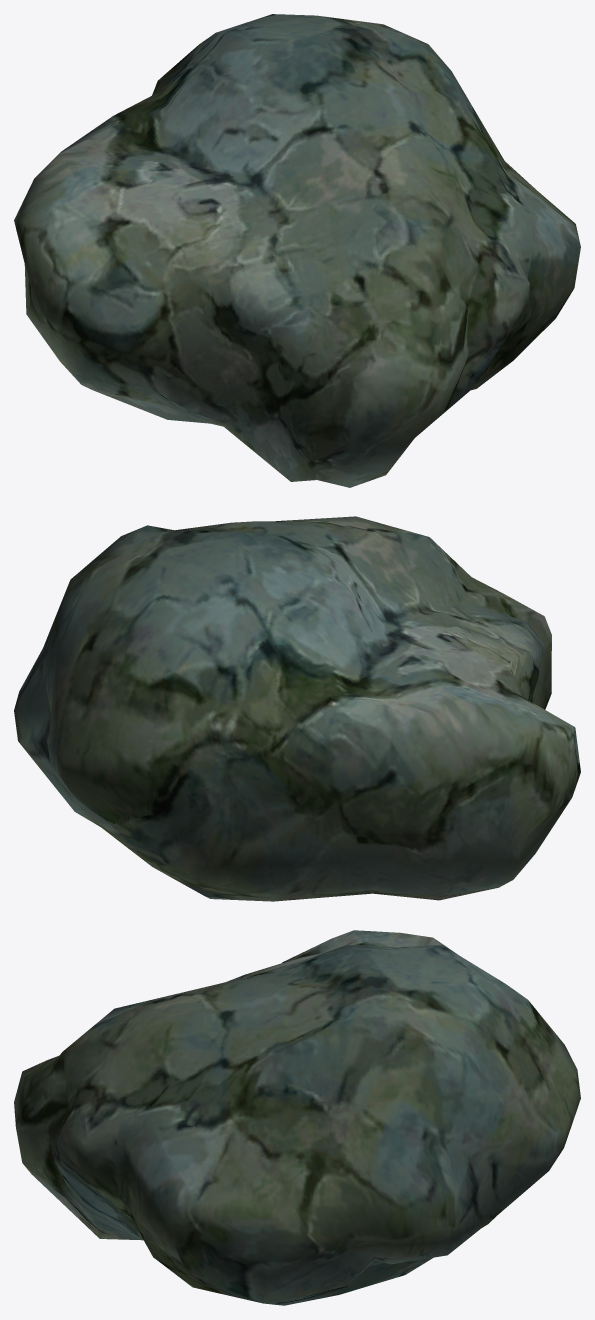
The model's file is dro_terrain_boulder.glb.
3 views of the same model, one above another, from view 1: azimuth 30°, elevation 25°; view 2: azimuth 150°, elevation 25°; view 3: azimuth 270°, elevation 25° (orthographic). The views are drawn at different scales.
Visible parts, largest first — view 1: dro_terrain_boulder; view 2: dro_terrain_boulder; view 3: dro_terrain_boulder.
Boxes of the visible parts, x1,y1,x2,y2 form: dro_terrain_boulder: (14, 14, 580, 487); dro_terrain_boulder: (14, 516, 580, 901); dro_terrain_boulder: (14, 930, 580, 1305).
Size of the model in its own units: 0.5017 by 0.3251 by 0.511.
1 material, 1 textured.
